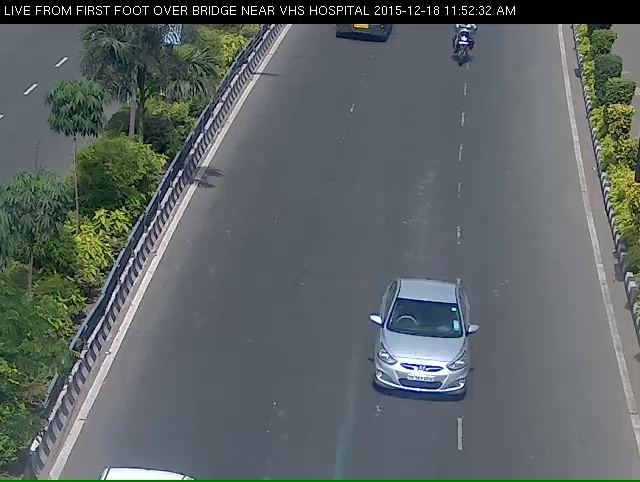Car: (366, 298, 482, 436), (329, 22, 397, 52)
Person: (449, 23, 480, 76)
